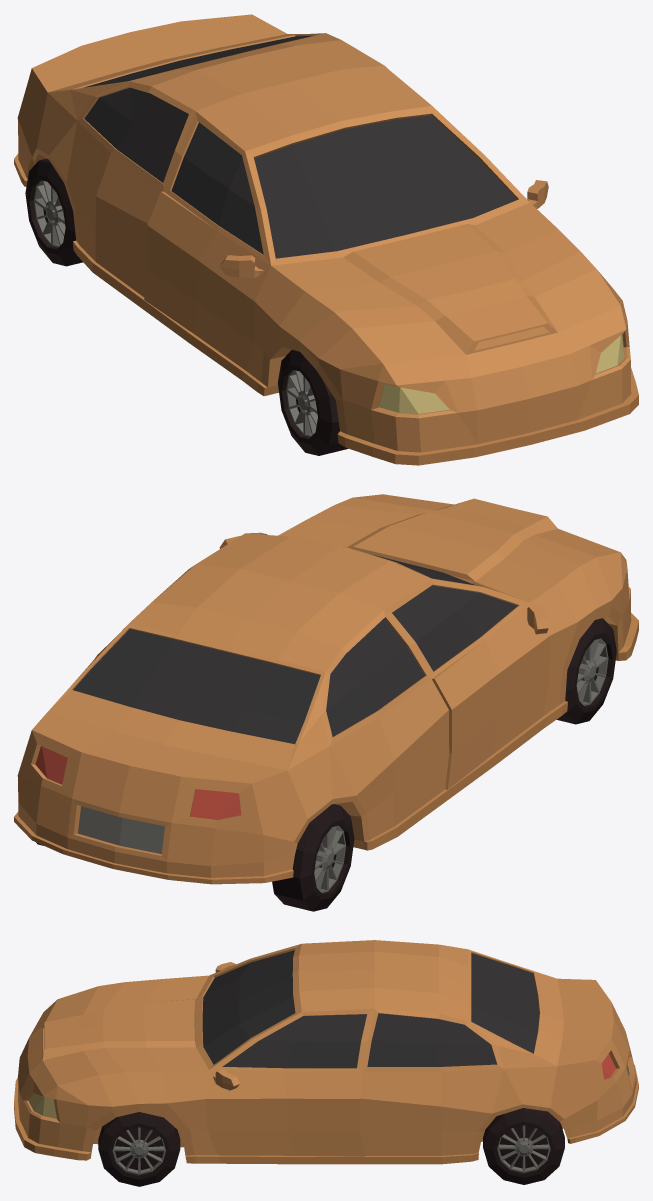
The model's file is car-sport.glb.
3 renders of one model, top to bottom at view 1: azimuth 30°, elevation 25°; view 2: azimuth 150°, elevation 25°; view 3: azimuth 270°, elevation 25°, orthographic. The views are drawn at different scales.
Parts seen in each view (by area): view 1: SportsCar_Cube.005; view 2: SportsCar_Cube.005; view 3: SportsCar_Cube.005.
Boxes of the visible parts, <box> form: SportsCar_Cube.005: <box>14,14,638,465</box>; SportsCar_Cube.005: <box>14,494,638,911</box>; SportsCar_Cube.005: <box>14,940,638,1186</box>.
Size of the model in its own units: 1.8 by 1.16 by 3.97.
Materials: 1 (1 with a texture image).
